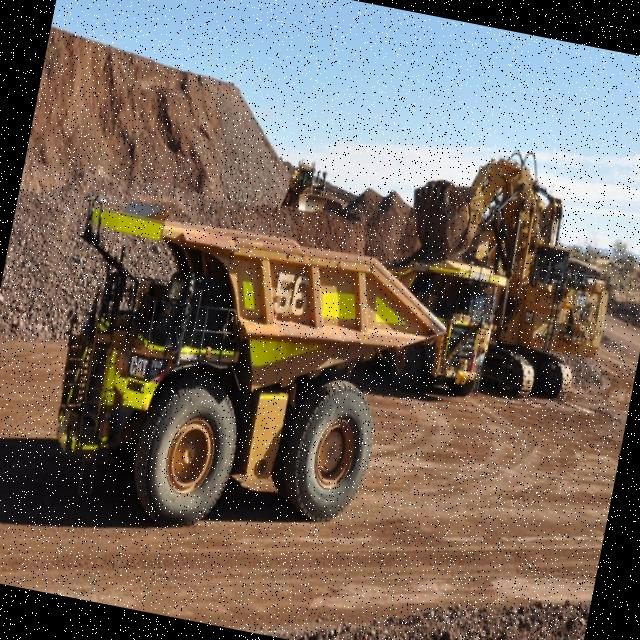Bulldozer: (280, 146, 356, 228)
Dump Truck: (19, 165, 429, 556), (382, 245, 506, 418)
Loader: (380, 127, 638, 416)
